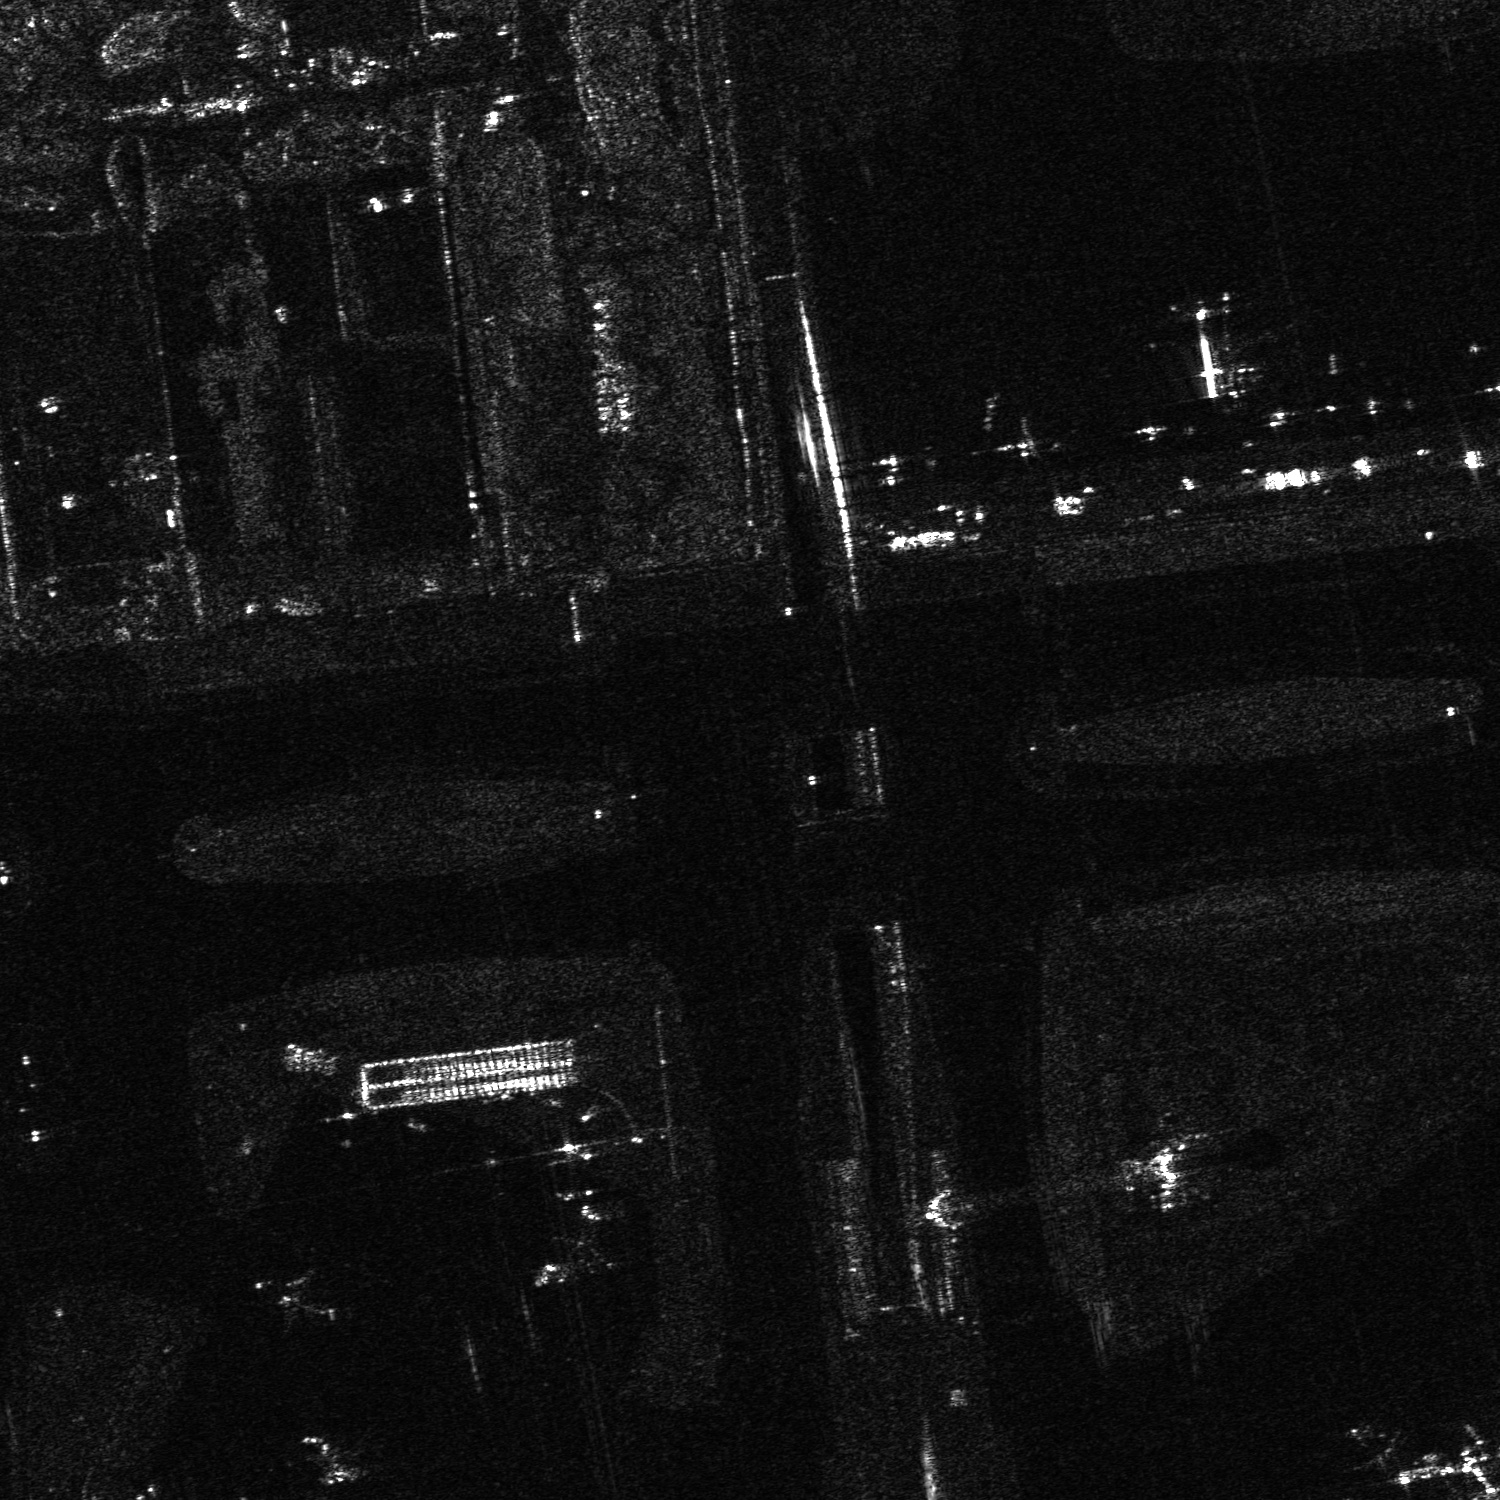Boeing787: (1143, 282, 1277, 398), (523, 1214, 620, 1293), (1343, 1419, 1407, 1473)
other: (249, 1265, 341, 1337)
